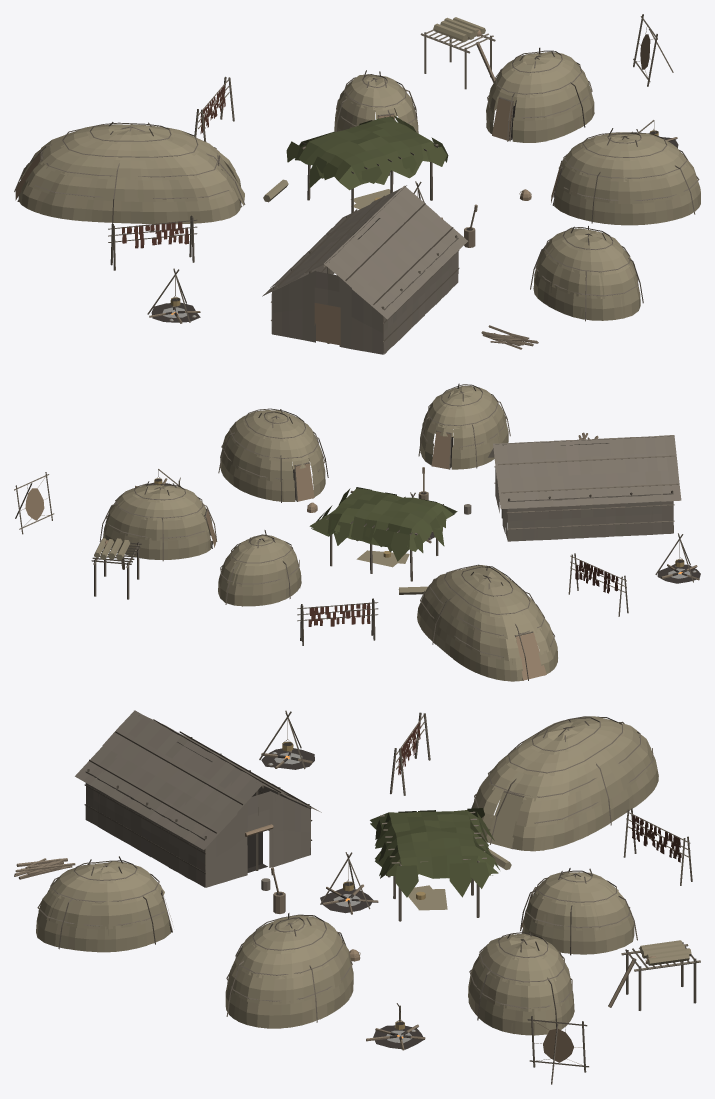
Rendered from potawatomi_camp_1812_south_prairie__camp_1812.glb.
The picture shows the model from 3 angles, top to bottom: view 1: azimuth 30°, elevation 25°; view 2: azimuth 150°, elevation 25°; view 3: azimuth 270°, elevation 25°; orthographic projection. The views are drawn at different scales.
Parts seen in each view (by area): view 1: potawatomi_camp_1812_south_prairie__camp_1812; view 2: potawatomi_camp_1812_south_prairie__camp_1812; view 3: potawatomi_camp_1812_south_prairie__camp_1812.
Part boxes in pixels (x1,y1,x2,y2): potawatomi_camp_1812_south_prairie__camp_1812: (14, 14, 700, 354); potawatomi_camp_1812_south_prairie__camp_1812: (14, 383, 700, 681); potawatomi_camp_1812_south_prairie__camp_1812: (14, 710, 700, 1084).
Bounding box in the file's own units: 27.58 × 3.45 × 23.66.
